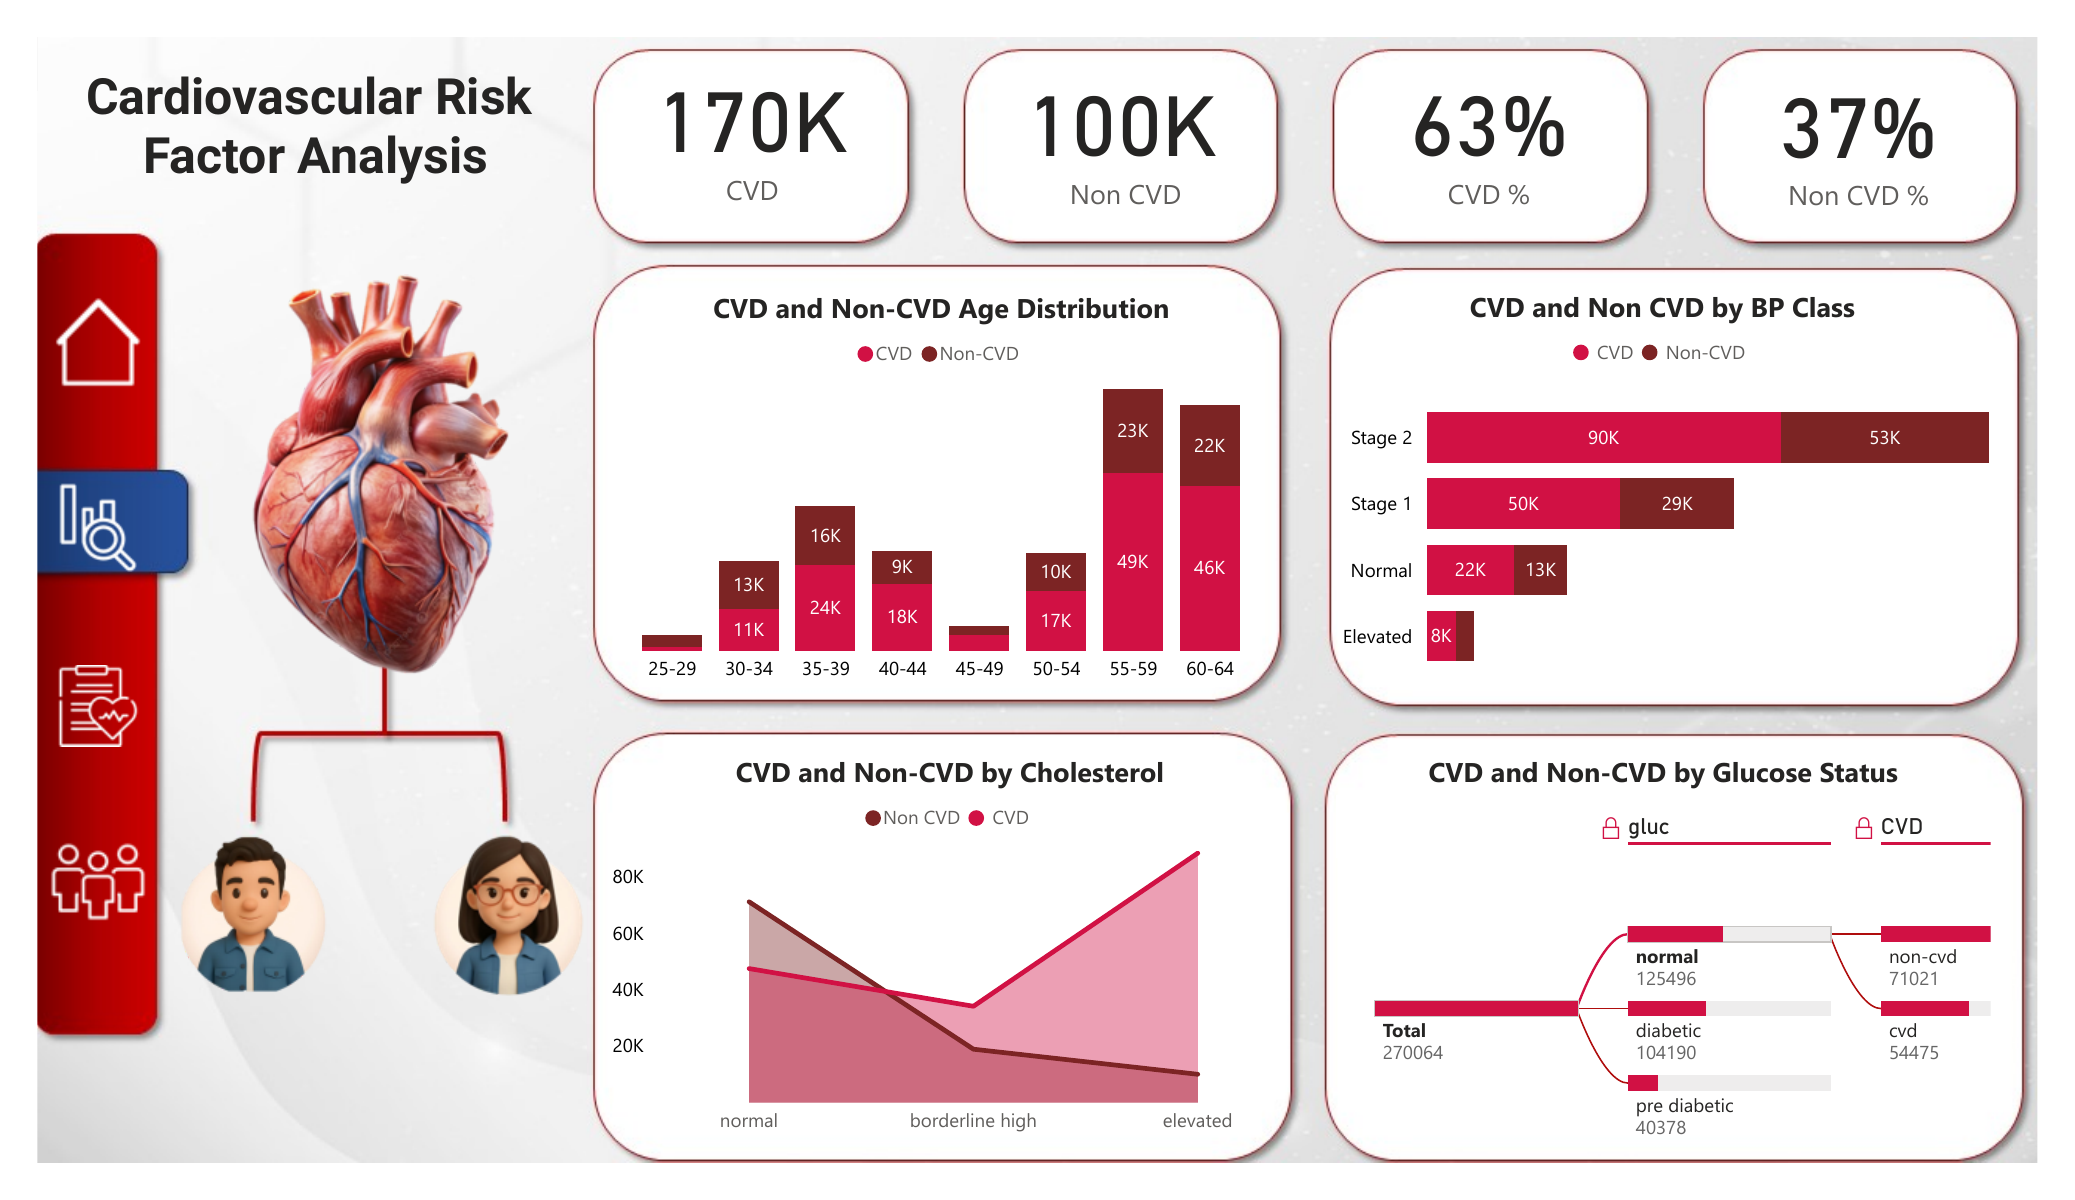

What the dashboard file says about the page in this screenshot:
{"tool":"powerbi","page":{"name":"Over View","canvas":[1280,720],"ordinal":1},"visuals":[{"type":"image","box":[189.3,483.3,223.8,164.3],"z":0},{"type":"card","fields":{"Values":["Heart.CVD Count"]},"box":[355.4,0,204.5,118],"z":1000},{"type":"card","fields":{"Values":["Heart.CVD %"]},"box":[826.1,5.5,205.8,112.5],"z":2000},{"type":"card","title":"Total Non CVD","fields":{"Values":["Heart.NonCVD Count"]},"box":[591.4,5.5,205.8,112.5],"z":3000},{"type":"card","fields":{"Values":["Heart.NonCVD %"]},"box":[1066.2,6.9,199,111.1],"z":4000},{"type":"columnChart","title":"CVD and Non-CVD Age Distribution","fields":{"Category":["Heart.age_distribution"],"Y":["Heart.CVD Count","Heart.NonCVD Count"]},"box":[362,161.1,433.3,262.3],"z":5000},{"type":"barChart","title":"CVD and Non CVD by BP Class","fields":{"Category":["Heart.BP_Class"],"Y":["Measure.Total CVD","Measure.Total Non CVD"]},"box":[825.7,160,428.6,262.9],"z":6000},{"type":"areaChart","title":" CVD and Non-CVD by Cholesterol ","fields":{"Category":["Heart.cholesterol"],"Y":["Heart.NonCVD Count","Heart.CVD Count"]},"box":[359.5,458.3,446,253.9],"z":7000},{"type":"decompositionTreeVisual","title":"CVD and Non-CVD by Glucose Status ","fields":{"Analyze":["Heart.Total Records"],"ExplainBy":["Heart.gluc","Heart.CVD"]},"box":[826.2,458.3,428.6,258.3],"z":8000},{"type":"textbox","box":[0,14.3,356,88.1],"z":9000},{"type":"image","box":[76.2,486.9,125,147.6],"z":10000},{"type":"image","box":[75.5,135.4,286.5,292.2],"z":11000},{"type":"image","box":[5.5,278.5,67.5,70],"z":12000},{"type":"image","box":[3.2,397,72,62],"z":13000},{"type":"image","box":[2.2,160,74,70],"z":14000},{"type":"image","box":[2.3,507.5,73.8,65],"z":15000}]}

Visuals, with their boxes on the page's 1280x720 design canvas (x1, y1, x2, y2). These are canvas units, not pixel positions in the 2075x1200 screenshot, which may show the page scaled, cropped or inside an application window:
image: bbox=[189, 483, 413, 648]
card - Heart.CVD Count: bbox=[355, 0, 560, 118]
card - Heart.CVD %: bbox=[826, 6, 1032, 118]
"Total Non CVD" card: bbox=[591, 6, 797, 118]
card - Heart.NonCVD %: bbox=[1066, 7, 1265, 118]
"CVD and Non-CVD Age Distribution" columnChart: bbox=[362, 161, 795, 423]
"CVD and Non CVD by BP Class" barChart: bbox=[826, 160, 1254, 423]
" CVD and Non-CVD by Cholesterol " areaChart: bbox=[360, 458, 806, 712]
"CVD and Non-CVD by Glucose Status " decompositionTreeVisual: bbox=[826, 458, 1255, 717]
textbox: bbox=[0, 14, 356, 102]
image: bbox=[76, 487, 201, 634]
image: bbox=[76, 135, 362, 428]
image: bbox=[6, 278, 73, 348]
image: bbox=[3, 397, 75, 459]
image: bbox=[2, 160, 76, 230]
image: bbox=[2, 508, 76, 572]
